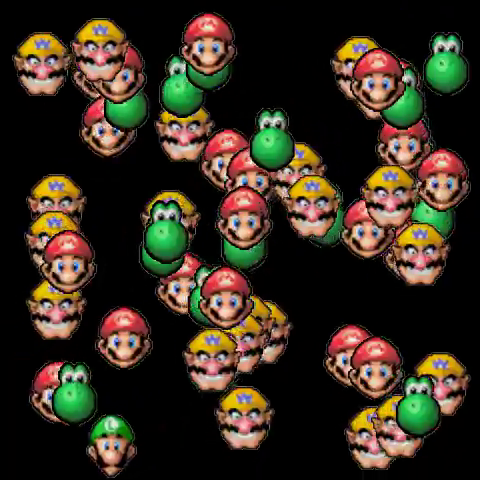luigi: (87, 416, 133, 471)
